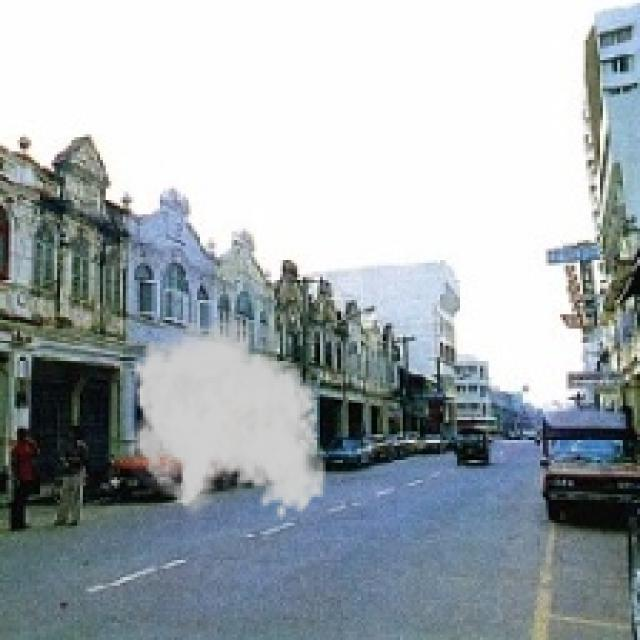Smoke: (120, 311, 329, 520)
